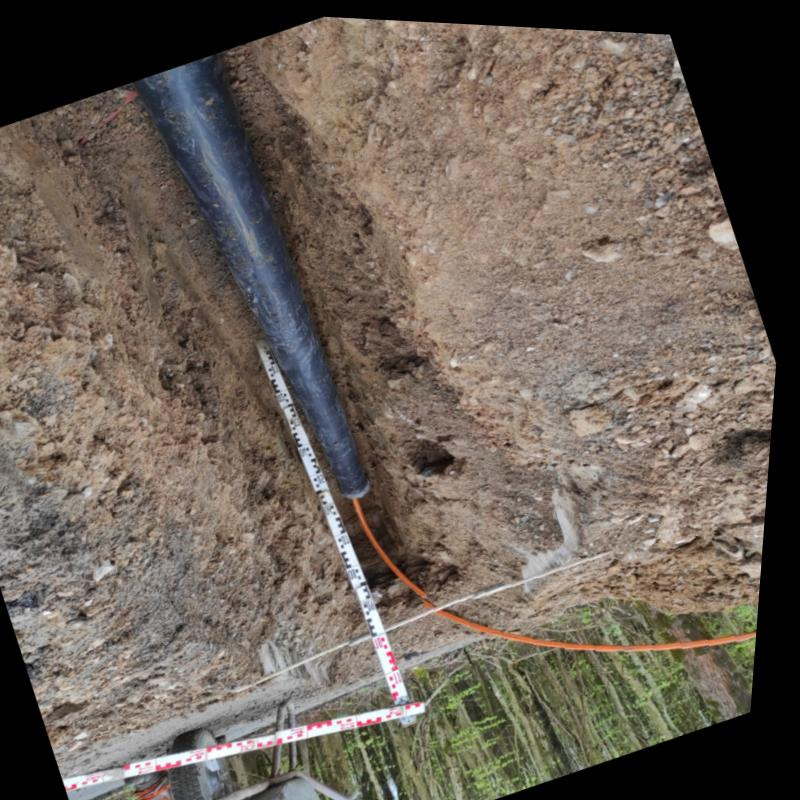Orang-Speednetrohrchen: (431, 592, 766, 641)
